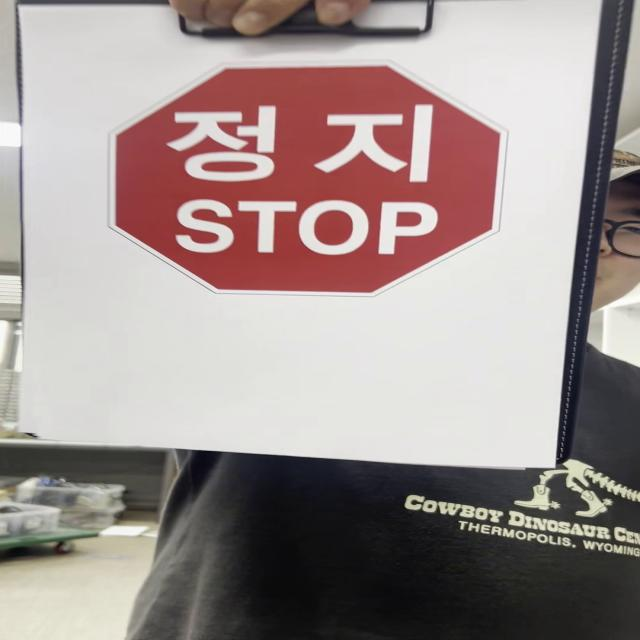stop: (109, 61, 513, 300)
